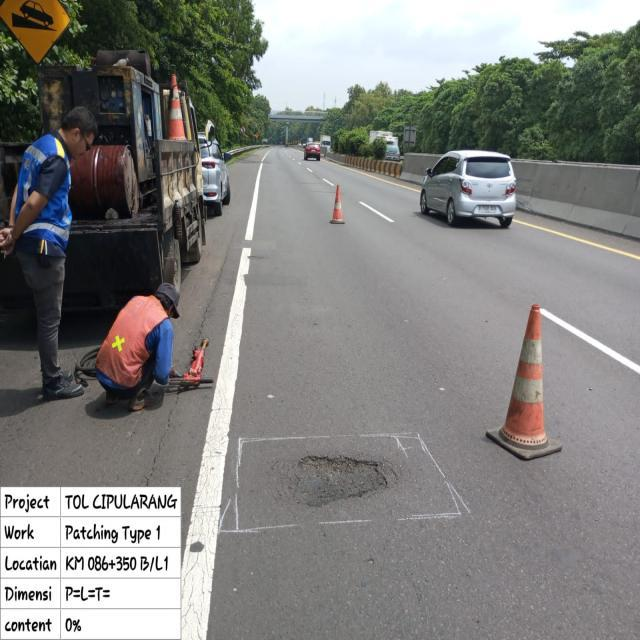Buraco: (289, 453, 392, 510)
